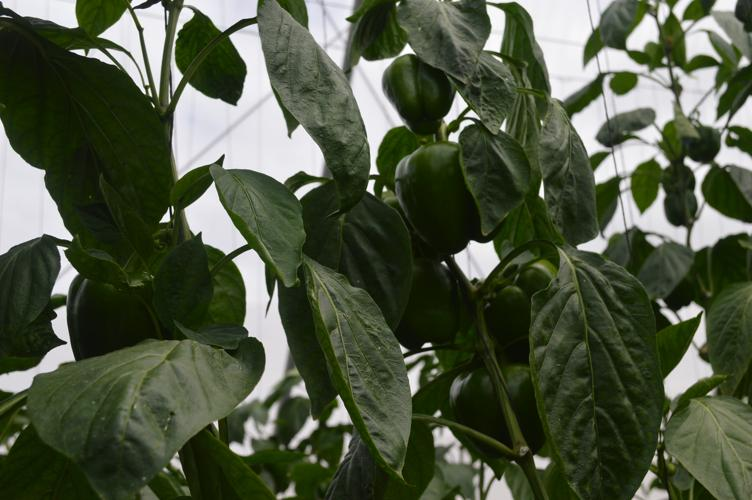BellPepper: (394, 146, 494, 250), (441, 363, 541, 456), (481, 258, 563, 361), (60, 276, 153, 356), (385, 257, 458, 353), (386, 56, 454, 129)
